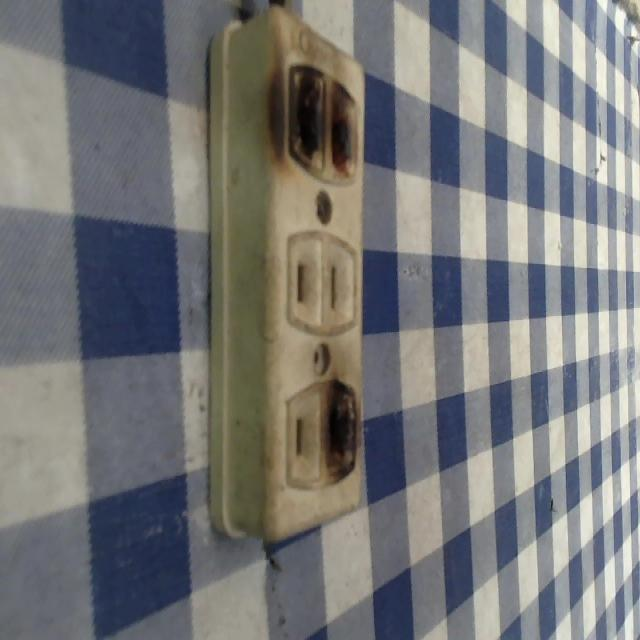-: (261, 51, 361, 192), (314, 374, 364, 494)
